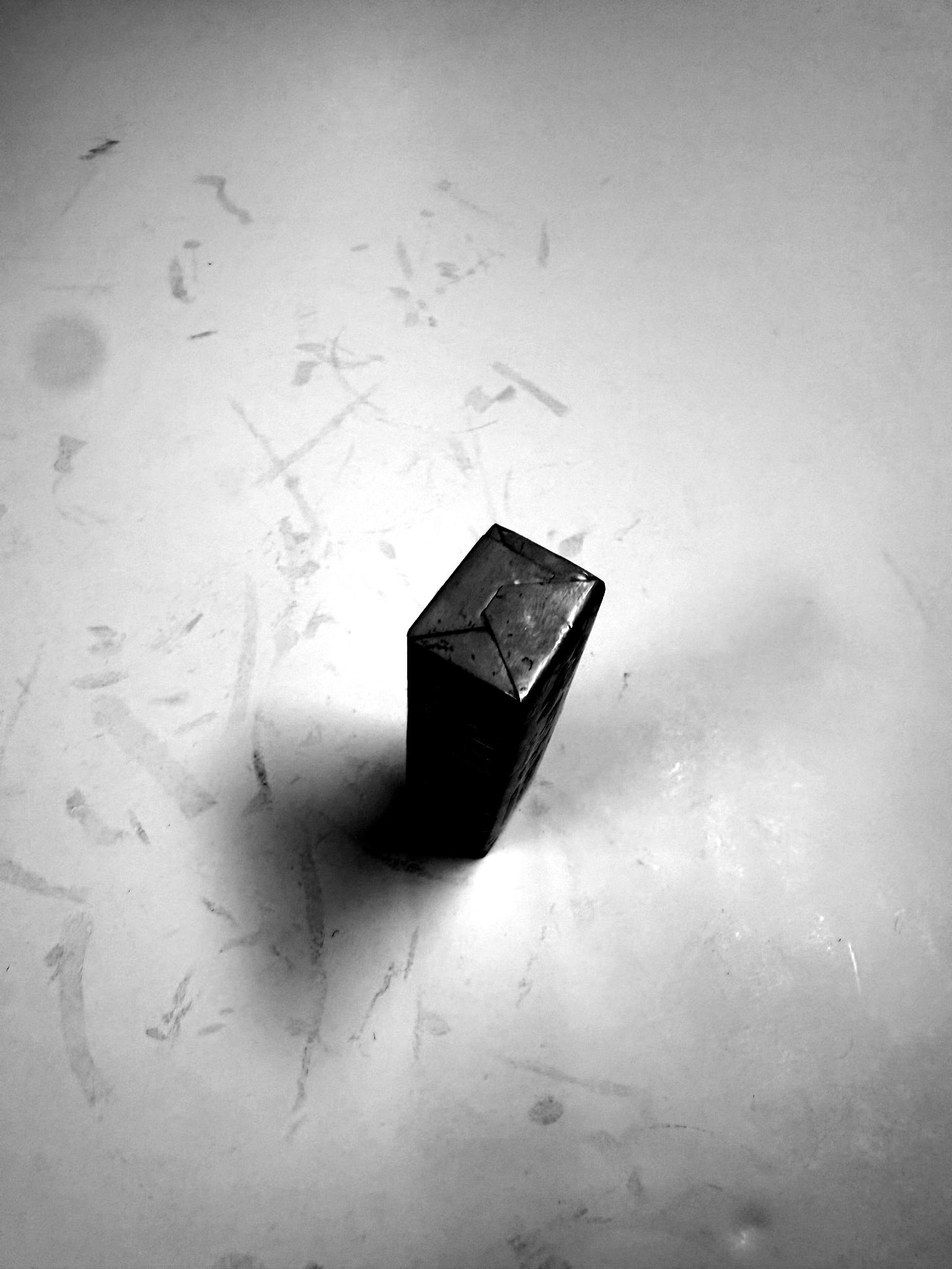gum_yellow: (398, 524, 603, 858)
